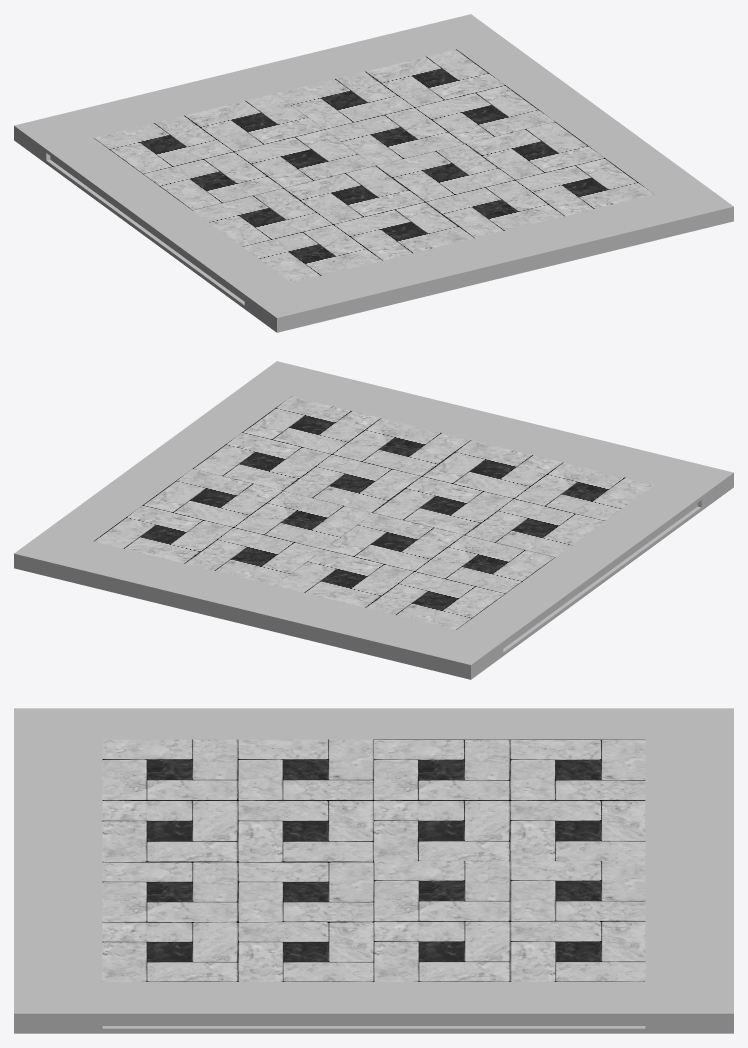
Rendered from Mod4.fbx.
3 views of the same model, one above another, from view 1: azimuth 30°, elevation 25°; view 2: azimuth 150°, elevation 25°; view 3: azimuth 270°, elevation 25° (orthographic). The views are drawn at different scales.
Visible parts, largest first — view 1: Floor4.002; view 2: Floor4.002; view 3: Floor4.002.
Boxes of the visible parts, left/top/right/bottom form: Floor4.002: left=14, top=14, right=733, bottom=332; Floor4.002: left=14, top=361, right=733, bottom=679; Floor4.002: left=14, top=708, right=733, bottom=1033.
Bounding box in the file's own units: 301 × 9.29 × 300.
